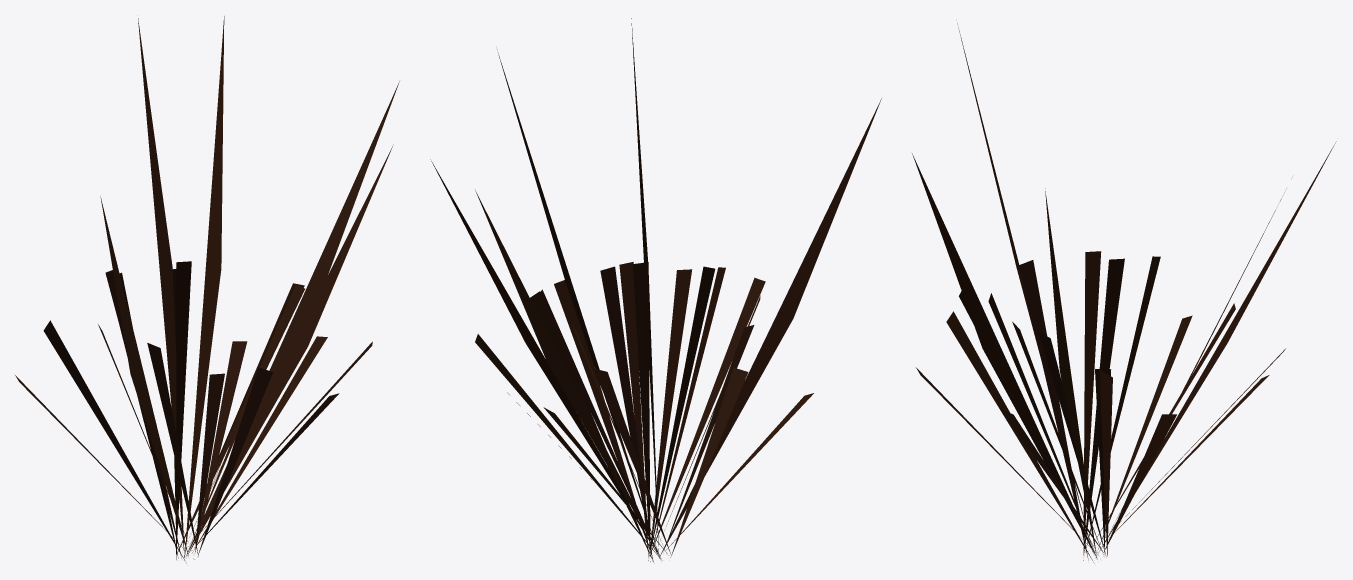
The model's file is DryBush_LOD2.obj.
The picture shows the model from 3 angles, left to right: view 1: azimuth 30°, elevation 25°; view 2: azimuth 150°, elevation 25°; view 3: azimuth 270°, elevation 25°; orthographic projection. The views are drawn at different scales.
Parts seen in each view (by area): view 1: DryBush_LOD2; view 2: DryBush_LOD2; view 3: DryBush_LOD2.
Boxes of the visible parts, bbox=[...] form: DryBush_LOD2: bbox=[15, 16, 399, 563]; DryBush_LOD2: bbox=[430, 18, 881, 562]; DryBush_LOD2: bbox=[912, 23, 1336, 563].
Size of the model in its own units: 61.3 by 75.85 by 62.63.
